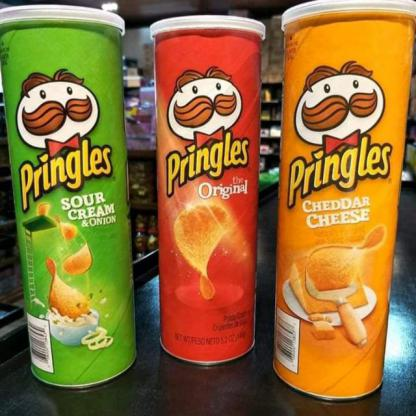potatochip: (269, 0, 415, 401), (0, 0, 137, 392), (150, 10, 265, 368)
